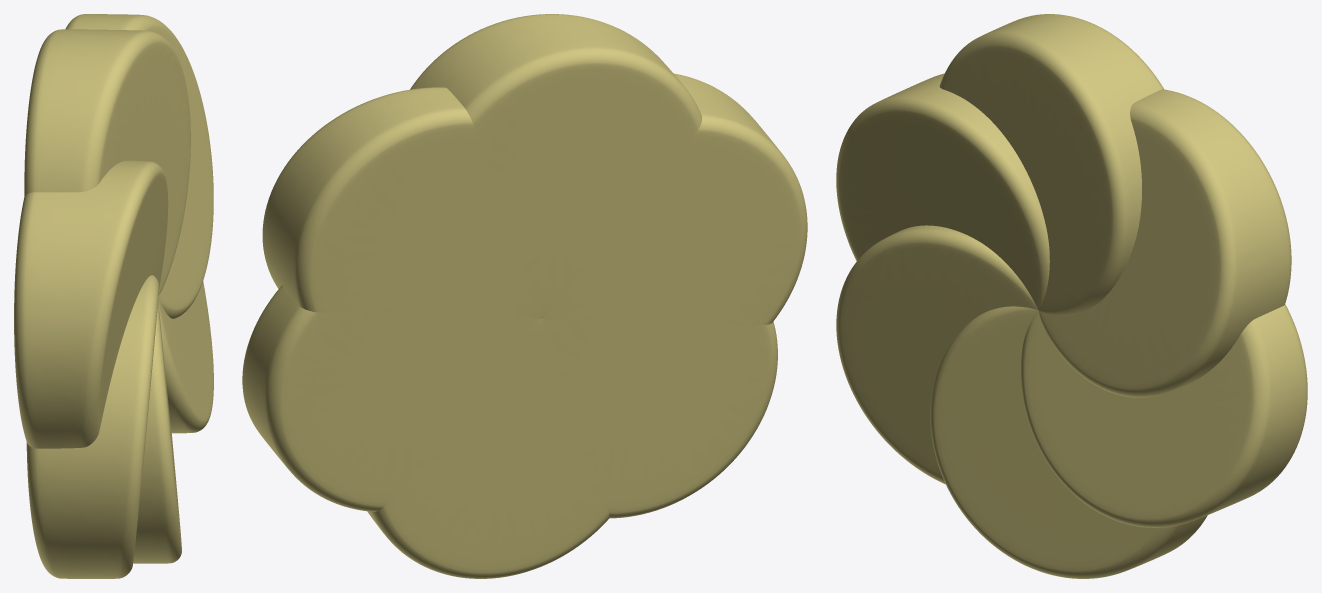
3 views of the same model, side by side, from view 1: azimuth 30°, elevation 25°; view 2: azimuth 150°, elevation 25°; view 3: azimuth 270°, elevation 25° (orthographic). The views are drawn at different scales.
Visible parts, largest first — view 1: Circle; view 2: Circle; view 3: Circle.
Boxes of the visible parts, x1,y1,x2,y2 form: Circle: (14,14,213,578); Circle: (242,14,807,578); Circle: (836,14,1307,578).
Bounding box in the file's own units: 2.11 × 2.92 × 2.43.
